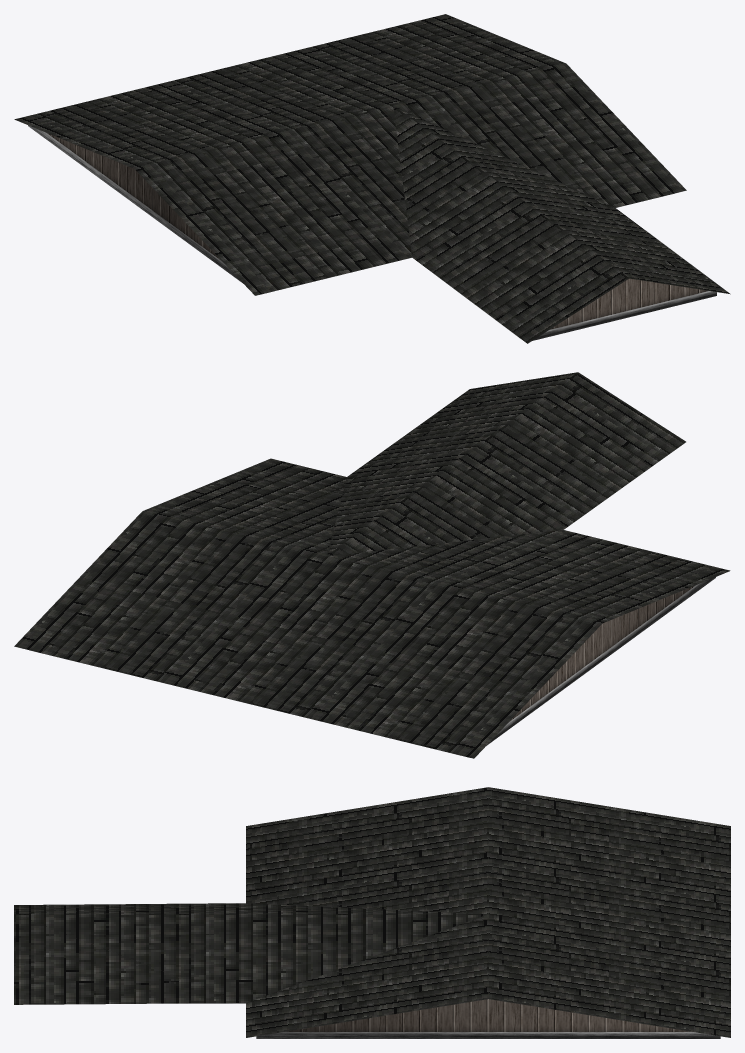
The model's file is roof8.obj.
The picture shows the model from 3 angles, top to bottom: view 1: azimuth 30°, elevation 25°; view 2: azimuth 150°, elevation 25°; view 3: azimuth 270°, elevation 25°; orthographic projection. The views are drawn at different scales.
Parts seen in each view (by area): view 1: base8; view 2: base8; view 3: base8.
Boxes of the visible parts, left/top/right/bottom form: base8: left=14, top=14, right=730, bottom=343; base8: left=14, top=372, right=730, bottom=758; base8: left=14, top=787, right=730, bottom=1038.
Size of the model in its own units: 484 by 47 by 692.
